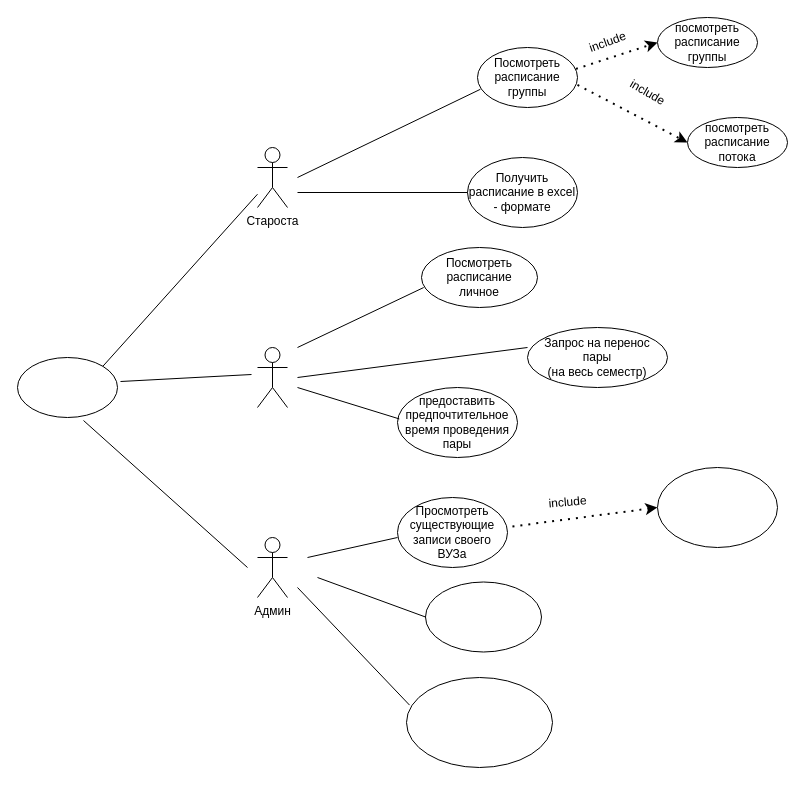
Some shapes in this 805 by 785 pixel diagram are drawn without their labels. The shapes that lost their labels are listed below. From the top down, each one's centre as x and y in pixels, then its label:
At (x=67, y=387): "Авторизоваться".
At (x=272, y=377): "Преподаватель".
At (x=717, y=507): "Выбрать запись для редактирования".
At (x=483, y=616): "Перейти на страницу добавления вузов".
At (x=479, y=722): "Перейти на страницу добавления преподавателей и студентов".
